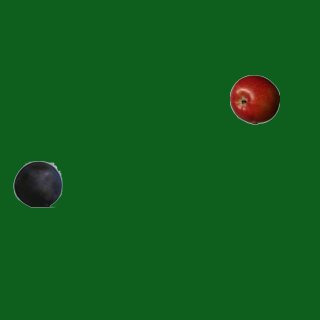Apple Braeburn: (229, 74, 279, 124)
Grape Blue: (12, 158, 62, 208)
